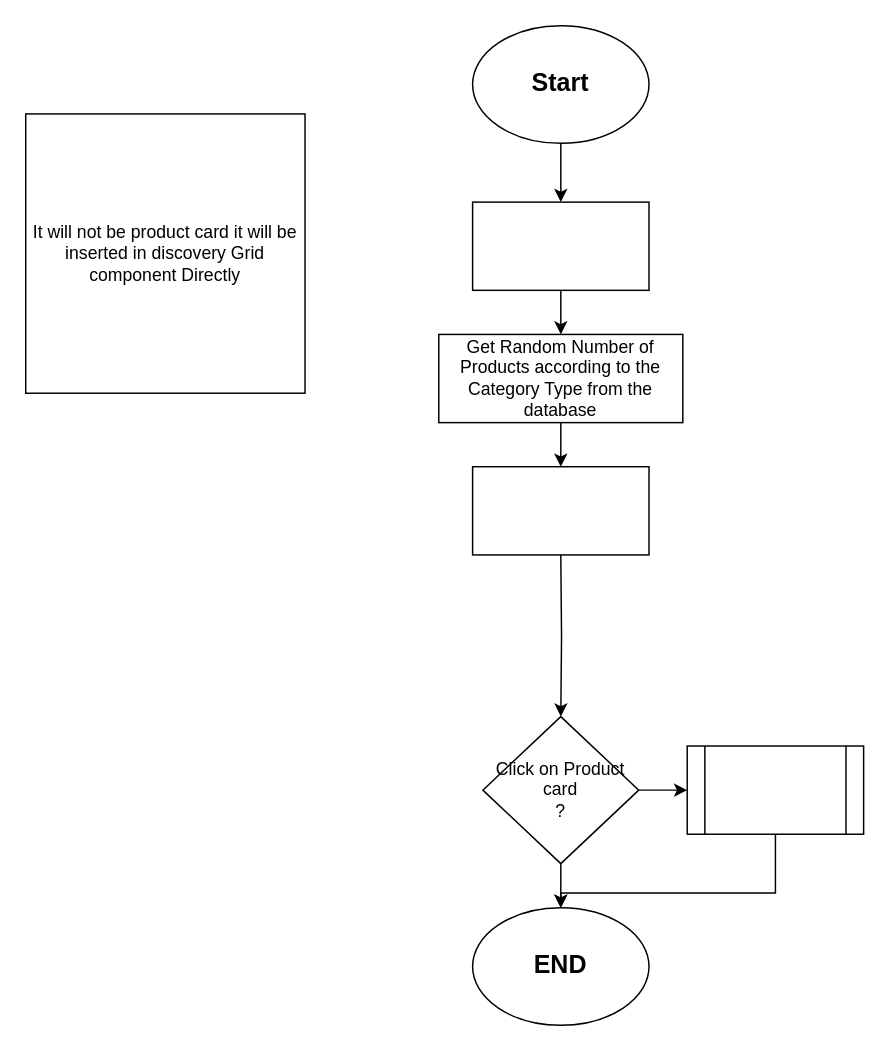
This 889x1051 diagram has some shape labels left out. Here are the shapes that lost their labels. From the top down, the centre of each, then its label:
At [560,245]: "Get CategoryType".
At [560,510]: "Display Products Data in Grid".
At [775,789]: "ProductPreview".
